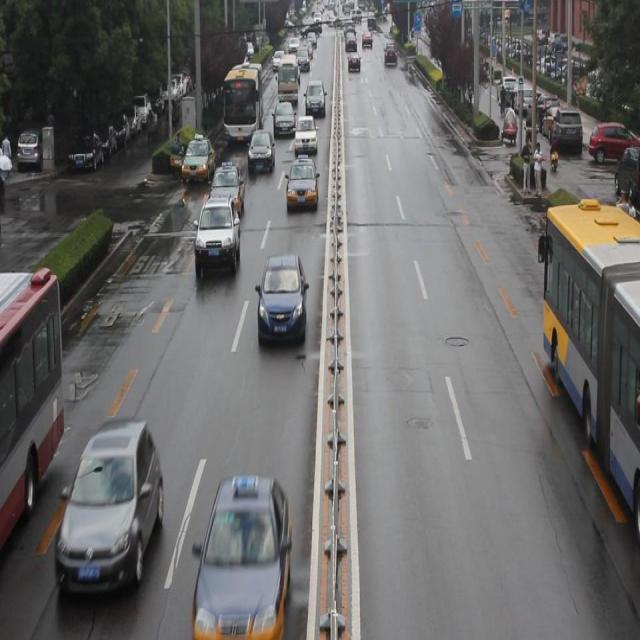car: (57, 425, 160, 584), (195, 475, 290, 632), (255, 254, 308, 344), (191, 200, 240, 276), (208, 160, 244, 220), (285, 156, 317, 208), (183, 134, 216, 184), (248, 130, 273, 176), (291, 116, 318, 155), (274, 100, 294, 135)
van: (536, 194, 640, 521), (1, 268, 65, 536), (222, 60, 262, 143)
